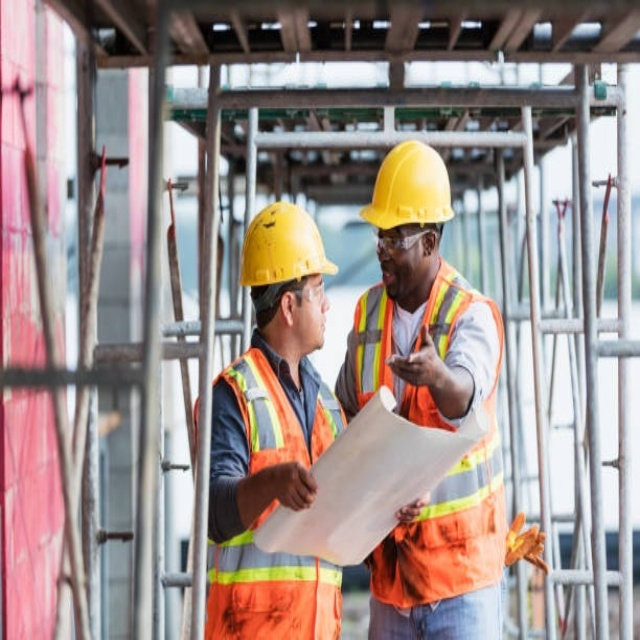Gafas: (375, 224, 435, 254), (287, 278, 325, 304)
Sin_guantes: (385, 325, 441, 391), (262, 458, 318, 514), (395, 493, 431, 525)
Sin_mascara: (379, 259, 401, 293), (311, 311, 329, 345)
